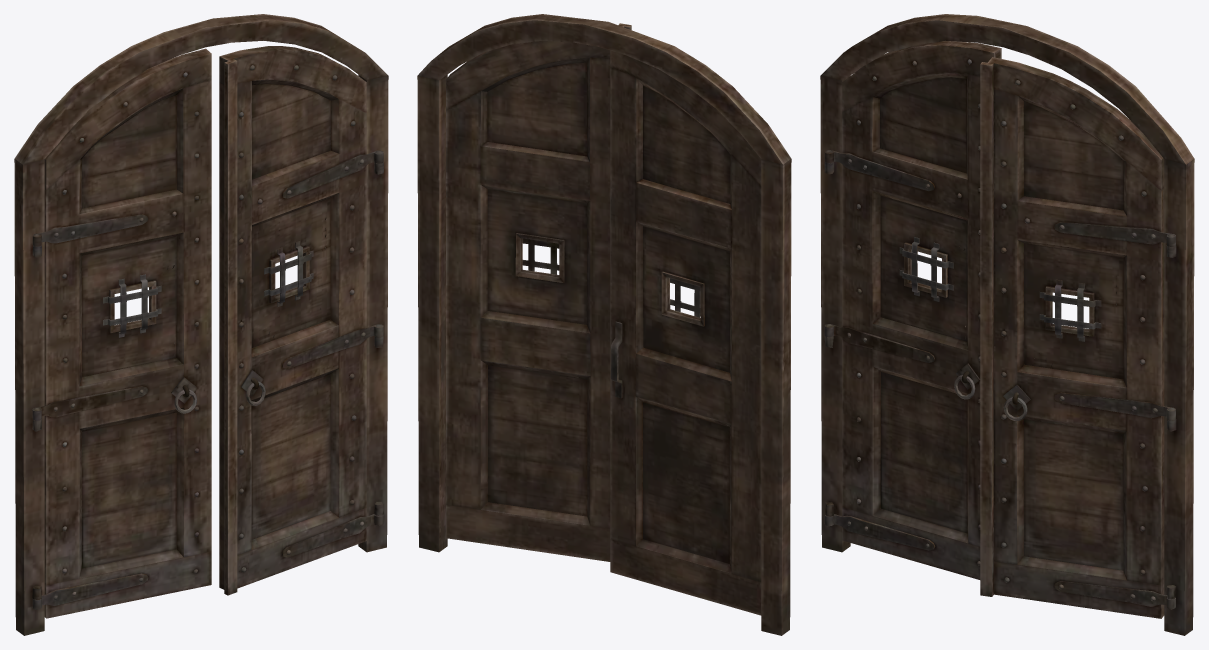
File: large_castle_door.glb
3 views of the same model, side by side, from view 1: azimuth 30°, elevation 25°; view 2: azimuth 150°, elevation 25°; view 3: azimuth 330°, elevation 25° (orthographic).
Visible parts, largest first — view 1: large_castle_door_left, large_castle_door_right, large_castle_door_frame; view 2: large_castle_door_right, large_castle_door_left, large_castle_door_frame; view 3: large_castle_door_right, large_castle_door_left, large_castle_door_frame.
Boxes of the visible parts, <box> form: large_castle_door_left: <box>32,48,211,618</box>; large_castle_door_right: <box>219,46,383,595</box>; large_castle_door_frame: <box>14,14,388,635</box>; large_castle_door_right: <box>446,23,631,561</box>; large_castle_door_left: <box>610,50,761,615</box>; large_castle_door_frame: <box>417,14,791,635</box>; large_castle_door_right: <box>980,57,1175,618</box>; large_castle_door_left: <box>824,41,1001,579</box>; large_castle_door_frame: <box>820,14,1194,635</box>.
Bounding box in the file's own units: 2.01 × 2.96 × 0.2963.
1 material, 1 textured.
